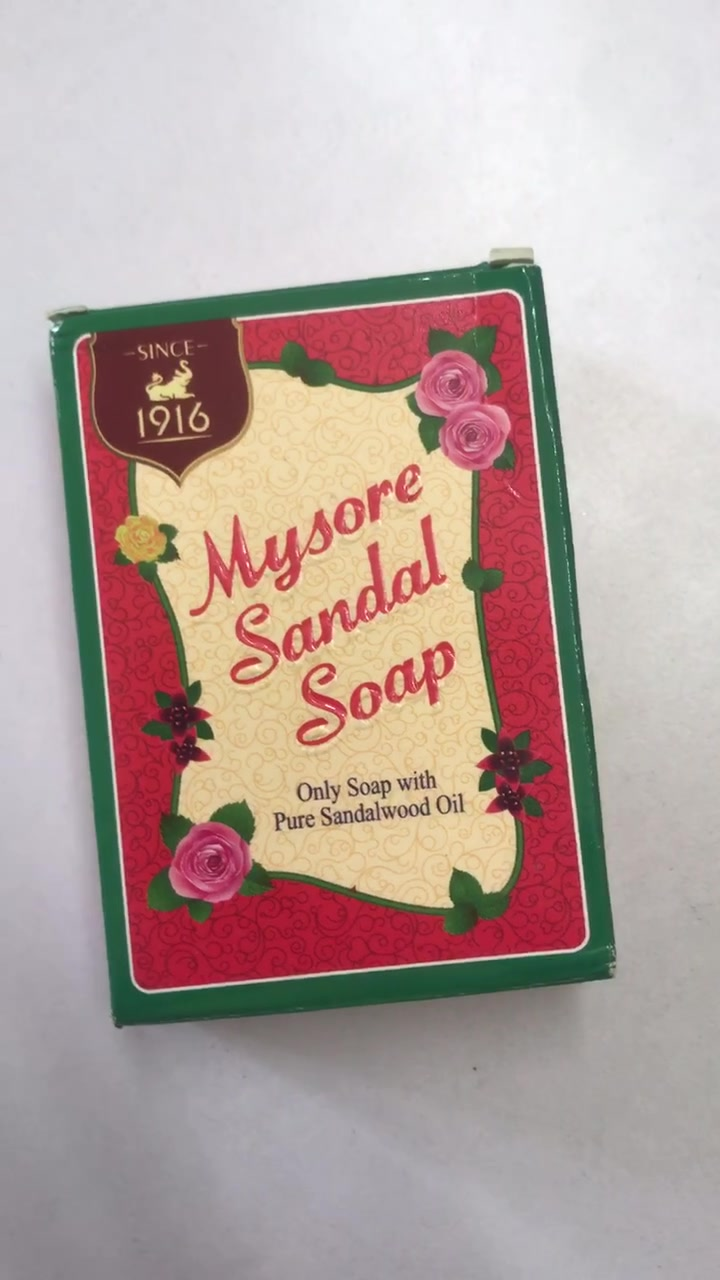mysore sandal soap: (49, 259, 620, 1034)
